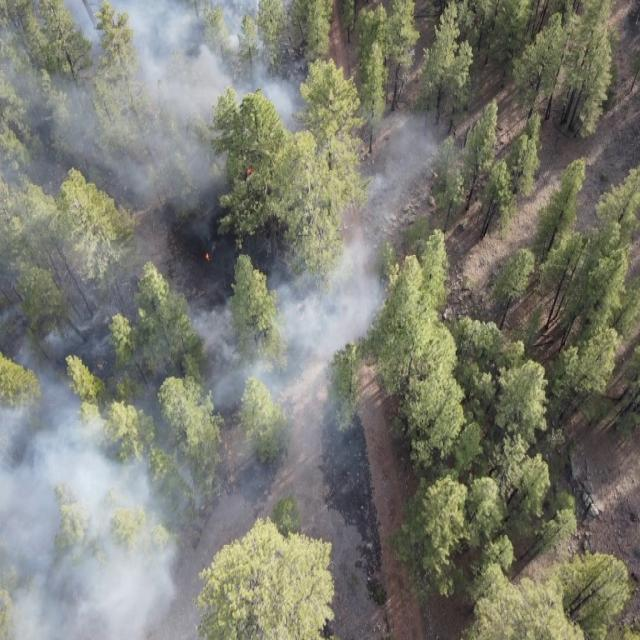fire: (245, 164, 255, 176), (204, 250, 212, 262)
smoke: (0, 197, 350, 640), (0, 0, 303, 201), (302, 92, 446, 380)
